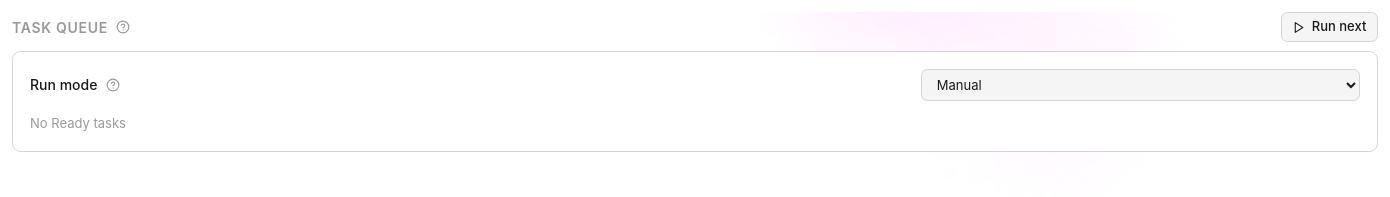
it: AgentTasksTab › shows a refused Run next in the card, and a rejected one unwrapped
Click the button "Run next": [1329, 27] box [1281,12,1378,42]
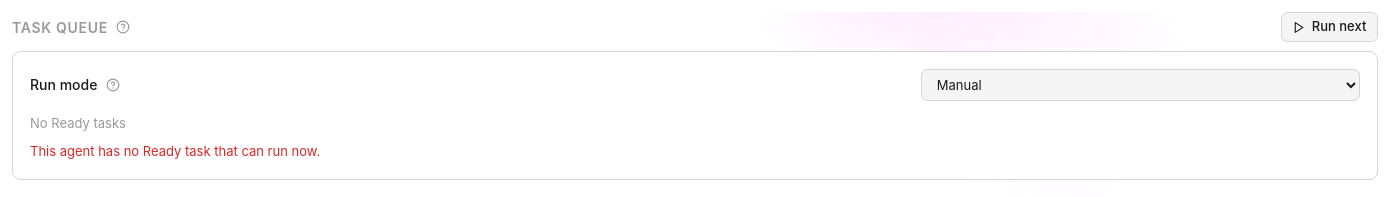
Result: the message reads "This agent has no Ready task that can run now." at [30,143,320,159]
Click the button "Run next": [1329, 27] box [1281,12,1378,42]
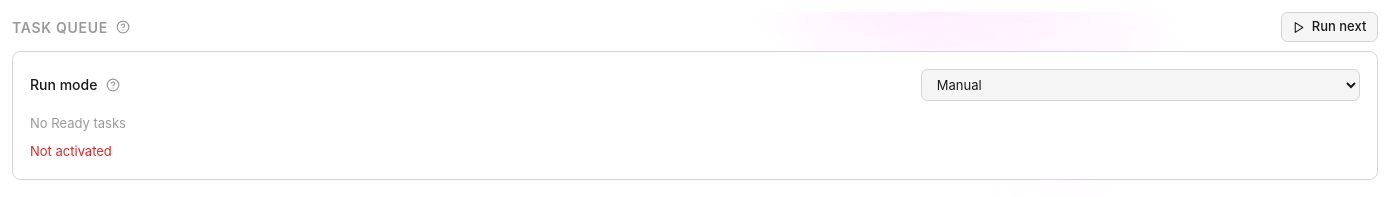
Result: the message reads "Not activated" at [30,143,112,159]
